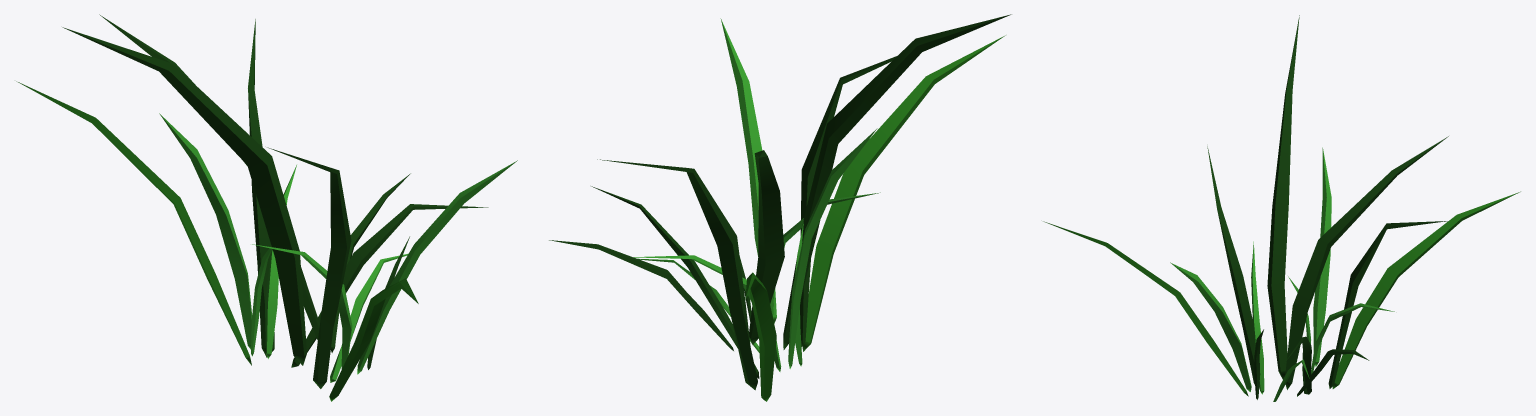
File: GrassPatch_01.FBX
The picture shows the model from 3 angles, left to right: view 1: azimuth 30°, elevation 25°; view 2: azimuth 150°, elevation 25°; view 3: azimuth 270°, elevation 25°; orthographic projection. The views are drawn at different scales.
Visible parts, largest first — view 1: Grass016, Grass015, Grass020, Grass021, Grass013, Grass023, Grass012, Grass019, Grass018, Grass010, Grass014, Grass011 (+2 smaller); view 2: Grass012, Grass016, Grass023, Grass014, Grass013, Grass021, Grass015, Grass020, Grass019, Grass022, Grass018, Grass010; view 3: Grass016, Grass014, Grass020, Grass015, Grass021, Grass023, Grass012, Grass013, Grass010, Grass018, Grass019, Grass022.
Boxes of the visible parts, bbox=[...] form: Grass016: bbox=[62, 27, 306, 365]; Grass015: bbox=[267, 147, 351, 388]; Grass020: bbox=[16, 81, 251, 365]; Grass021: bbox=[159, 113, 252, 349]; Grass013: bbox=[357, 160, 517, 374]; Grass023: bbox=[248, 19, 274, 357]; Grass012: bbox=[329, 278, 418, 401]; Grass019: bbox=[291, 204, 488, 367]; Grass018: bbox=[265, 165, 296, 358]; Grass010: bbox=[252, 244, 352, 369]; Grass014: bbox=[99, 14, 319, 340]; Grass011: bbox=[330, 253, 408, 382]; Grass012: bbox=[802, 35, 1005, 351]; Grass016: bbox=[783, 14, 1011, 349]; Grass023: bbox=[597, 159, 757, 390]; Grass014: bbox=[749, 150, 784, 344]; Grass013: bbox=[720, 18, 776, 323]; Grass021: bbox=[788, 128, 877, 368]; Grass015: bbox=[800, 56, 896, 346]; Grass020: bbox=[745, 272, 776, 401]; Grass019: bbox=[591, 186, 759, 378]; Grass022: bbox=[549, 240, 733, 350]; Grass018: bbox=[633, 255, 781, 371]; Grass010: bbox=[770, 192, 880, 316]; Grass016: bbox=[1267, 15, 1299, 379]; Grass014: bbox=[1285, 136, 1448, 389]; Grass020: bbox=[1332, 191, 1520, 388]; Grass015: bbox=[1207, 146, 1254, 384]; Grass021: bbox=[1313, 147, 1331, 366]; Grass023: bbox=[1328, 221, 1447, 388]; Grass012: bbox=[1043, 221, 1248, 396]; Grass013: bbox=[1170, 262, 1251, 391]; Grass010: bbox=[1251, 241, 1264, 394]; Grass018: bbox=[1311, 303, 1394, 374]; Grass019: bbox=[1284, 336, 1311, 394]; Grass022: bbox=[1297, 349, 1369, 396].
Bounding box in the file's own units: 6.82 × 6.36 × 9.27.
